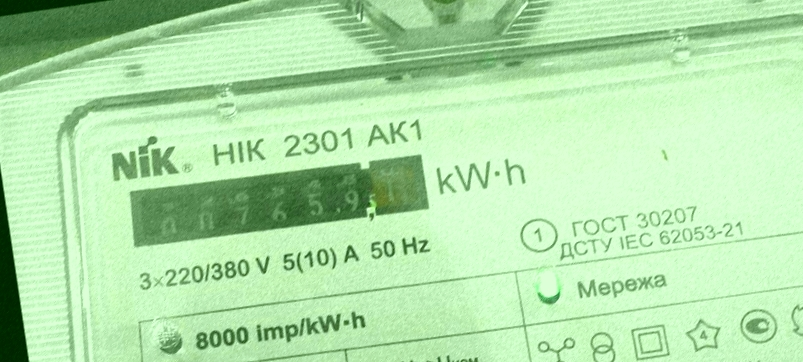0: (196, 203, 219, 231), (159, 208, 180, 236)
1: (382, 169, 401, 203)
5: (304, 185, 330, 215)
6: (269, 193, 291, 220)
7: (232, 199, 255, 226)
9: (342, 182, 363, 211)
screen: (116, 131, 444, 266)
